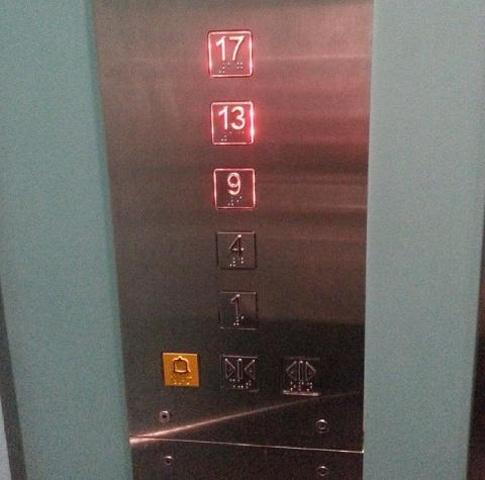1: (212, 285, 258, 332)
13: (207, 97, 255, 146)
17: (203, 26, 255, 79)
4: (212, 225, 258, 272)
9: (210, 163, 258, 211)
alarm: (158, 348, 201, 389)
close: (215, 349, 261, 396)
open: (276, 351, 322, 398)
